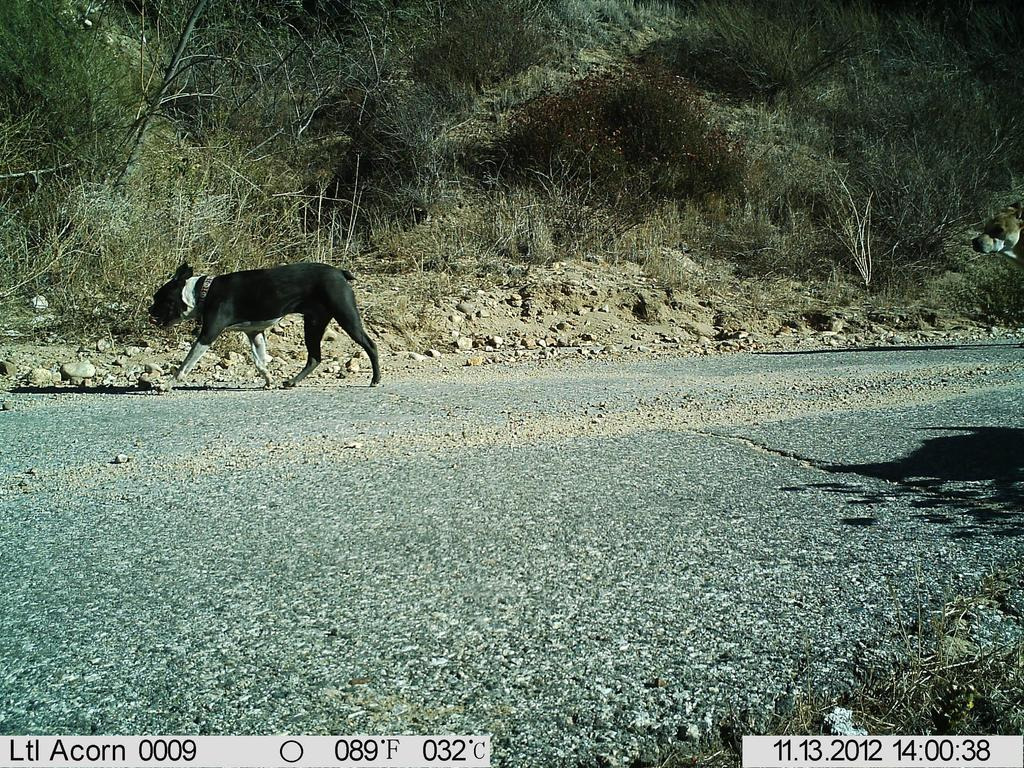dog: (140, 250, 402, 393)
